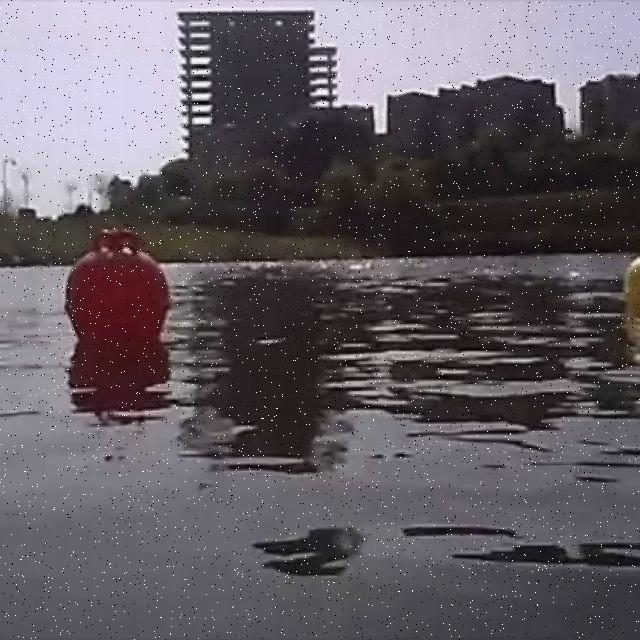buoy: (66, 225, 169, 348)
